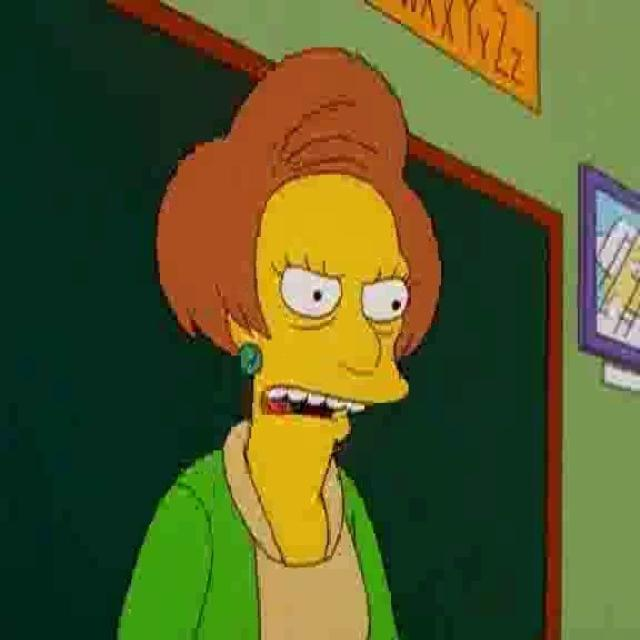Edna Krappel: (153, 44, 447, 536)
